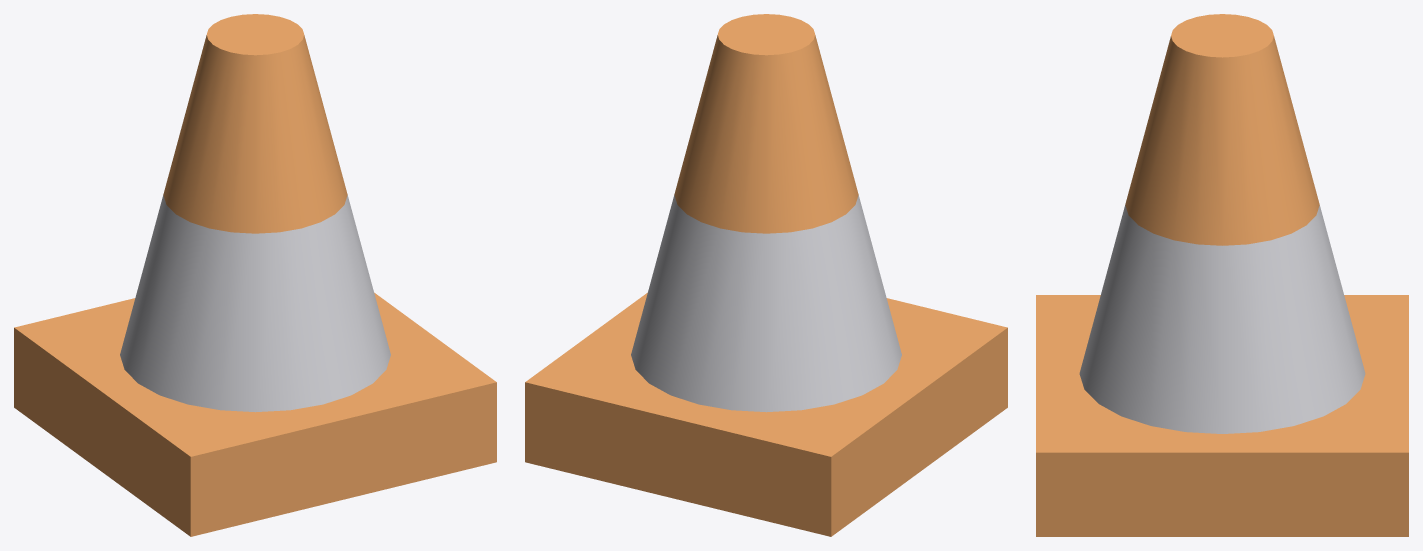
Rendered from construction_pylon.glb.
The picture shows the model from 3 angles, left to right: view 1: azimuth 30°, elevation 25°; view 2: azimuth 150°, elevation 25°; view 3: azimuth 270°, elevation 25°; orthographic projection. The views are drawn at different scales.
Parts seen in each view (by area): view 1: construction_pylon; view 2: construction_pylon; view 3: construction_pylon.
Part boxes in pixels (left/top/right/bottom): construction_pylon: left=14, top=14, right=496, bottom=536; construction_pylon: left=525, top=14, right=1007, bottom=536; construction_pylon: left=1036, top=14, right=1408, bottom=536.
Bounding box in the file's own units: 0.075 × 0.0938 × 0.075.
